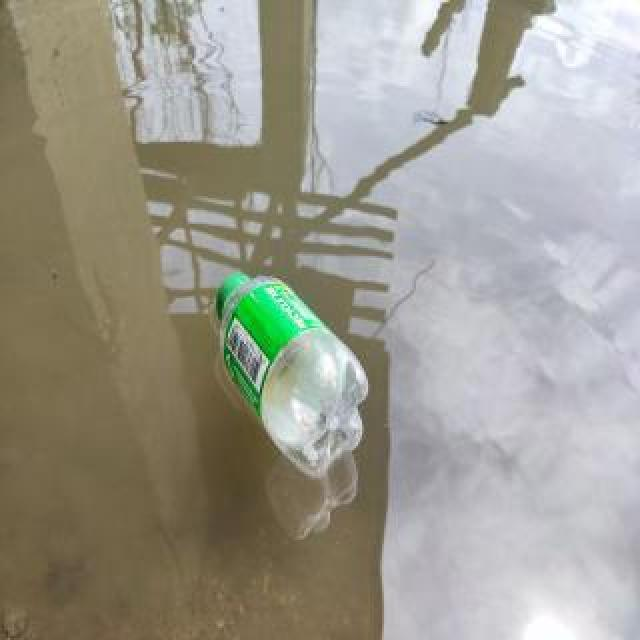bottle: (209, 264, 371, 484)
